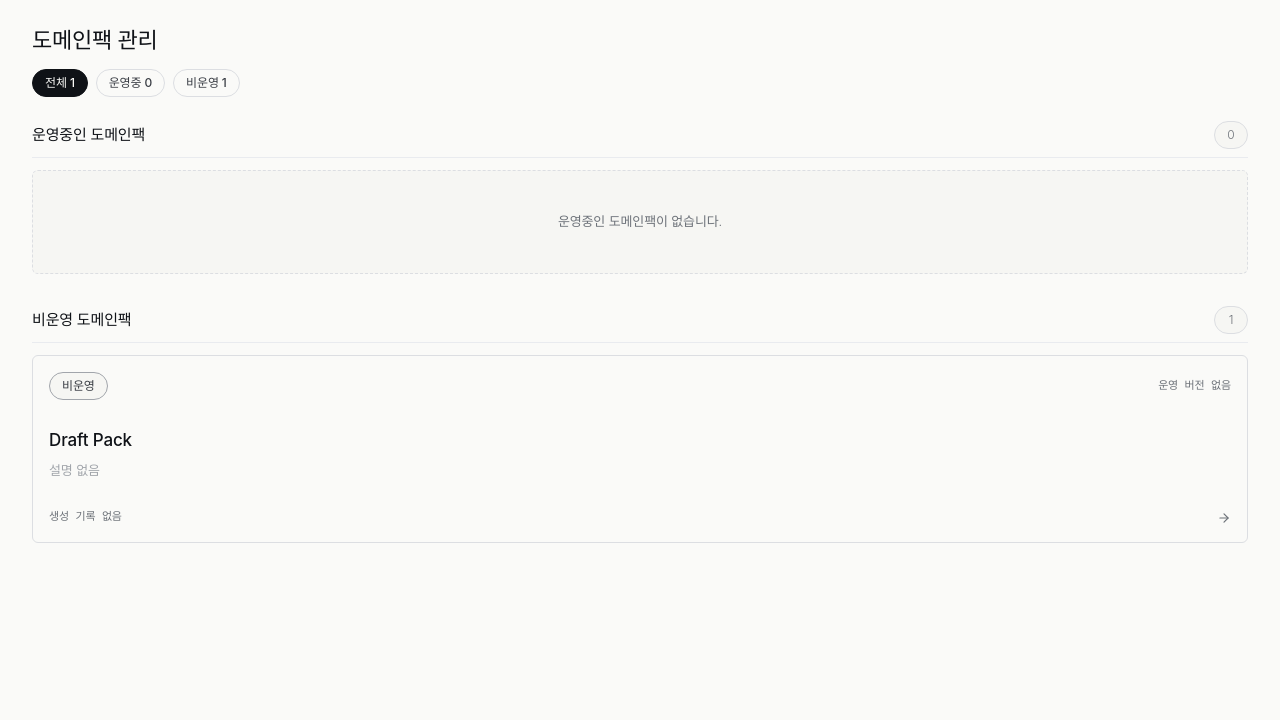
Test: DomainPackListPage › 선택한 상태에 도메인팩이 없으면 섹션 빈 상태를 표시한다
Click the button "운영중 0" at (130, 83), box [96, 69, 165, 97]
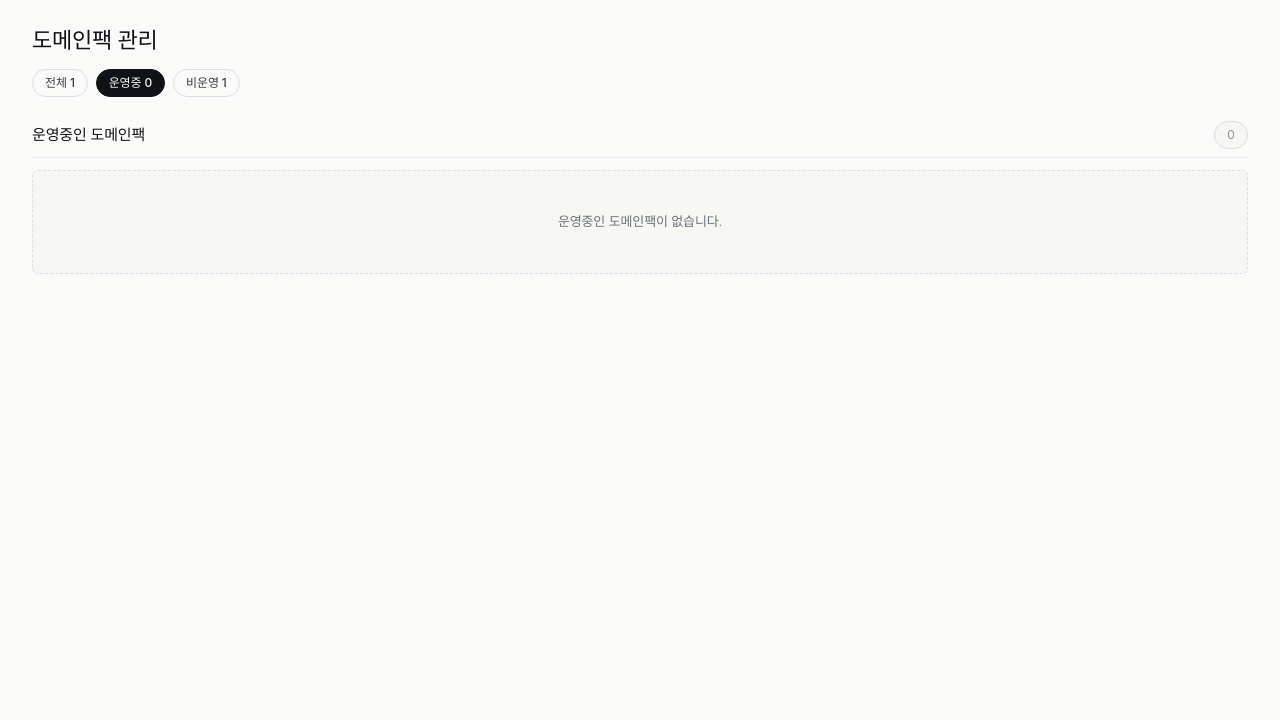
Expected: the heading "운영중인 도메인팩" is shown, [32, 124, 145, 146]
Result: the link "Draft Pack" is gone
